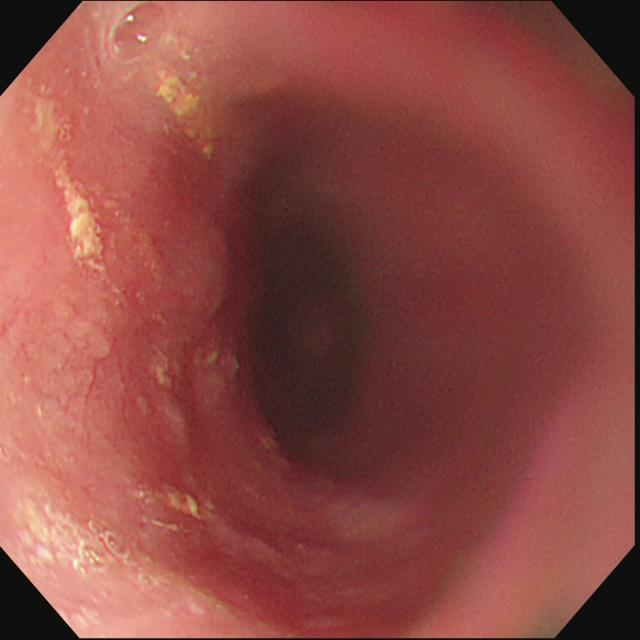J: (27, 81, 109, 280), (153, 71, 219, 160), (151, 484, 204, 523)
T: (69, 514, 133, 578)
